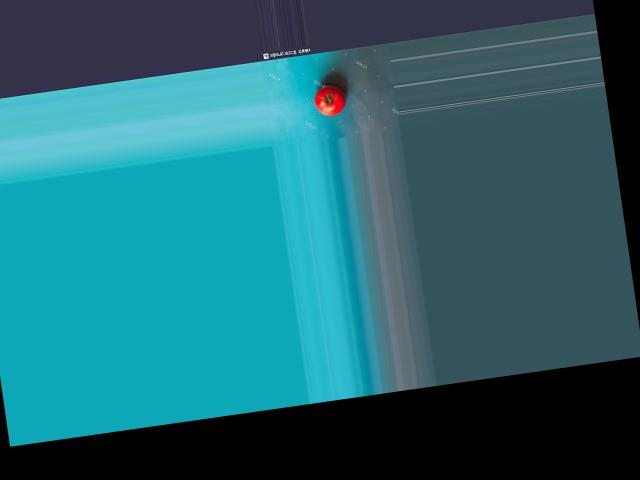tomato: (313, 82, 347, 117)
